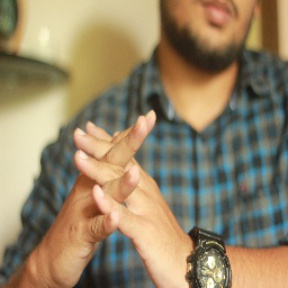W: (55, 103, 175, 253)
